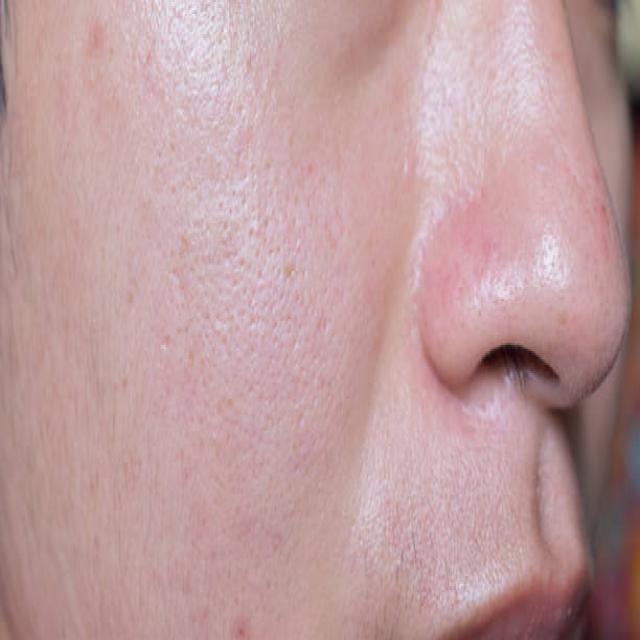dry: (420, 38, 580, 567), (84, 377, 266, 640), (221, 114, 338, 440), (56, 54, 174, 294)
